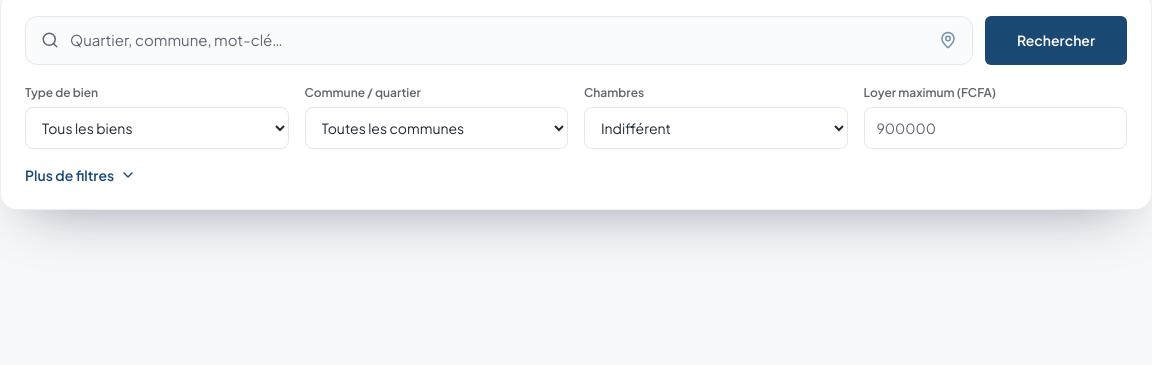
Test: LocationFilters (panneau) › montre quatre critères essentiels et range les autres derrière « Plus de filtres »
Expected: the dropdown labelled "Type de bien" is shown, [25,106,288,148]
Expected: the dropdown labelled "Commune / quartier" is shown, [304,106,568,148]
What coordinates should you click on to do the following:
click the button "Plus de filtres"
I would click on:
 (81, 174)
Its box is [25,164,136,184].
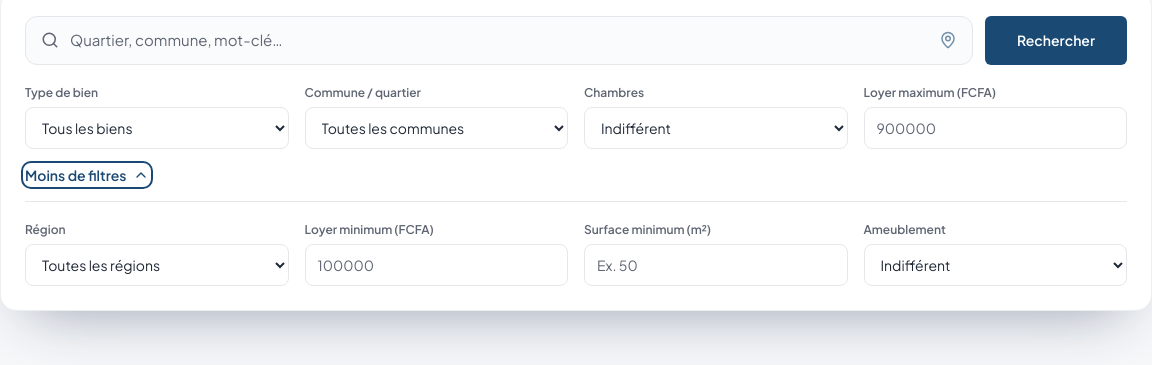
Now the dropdown labelled "Région" is shown, box [25,244,288,286]
Now the number field labelled "Loyer minimum (FCFA)" is shown, box [304,244,568,286]
Now the number field labelled "Surface minimum (m²)" is shown, box [584,244,848,286]
